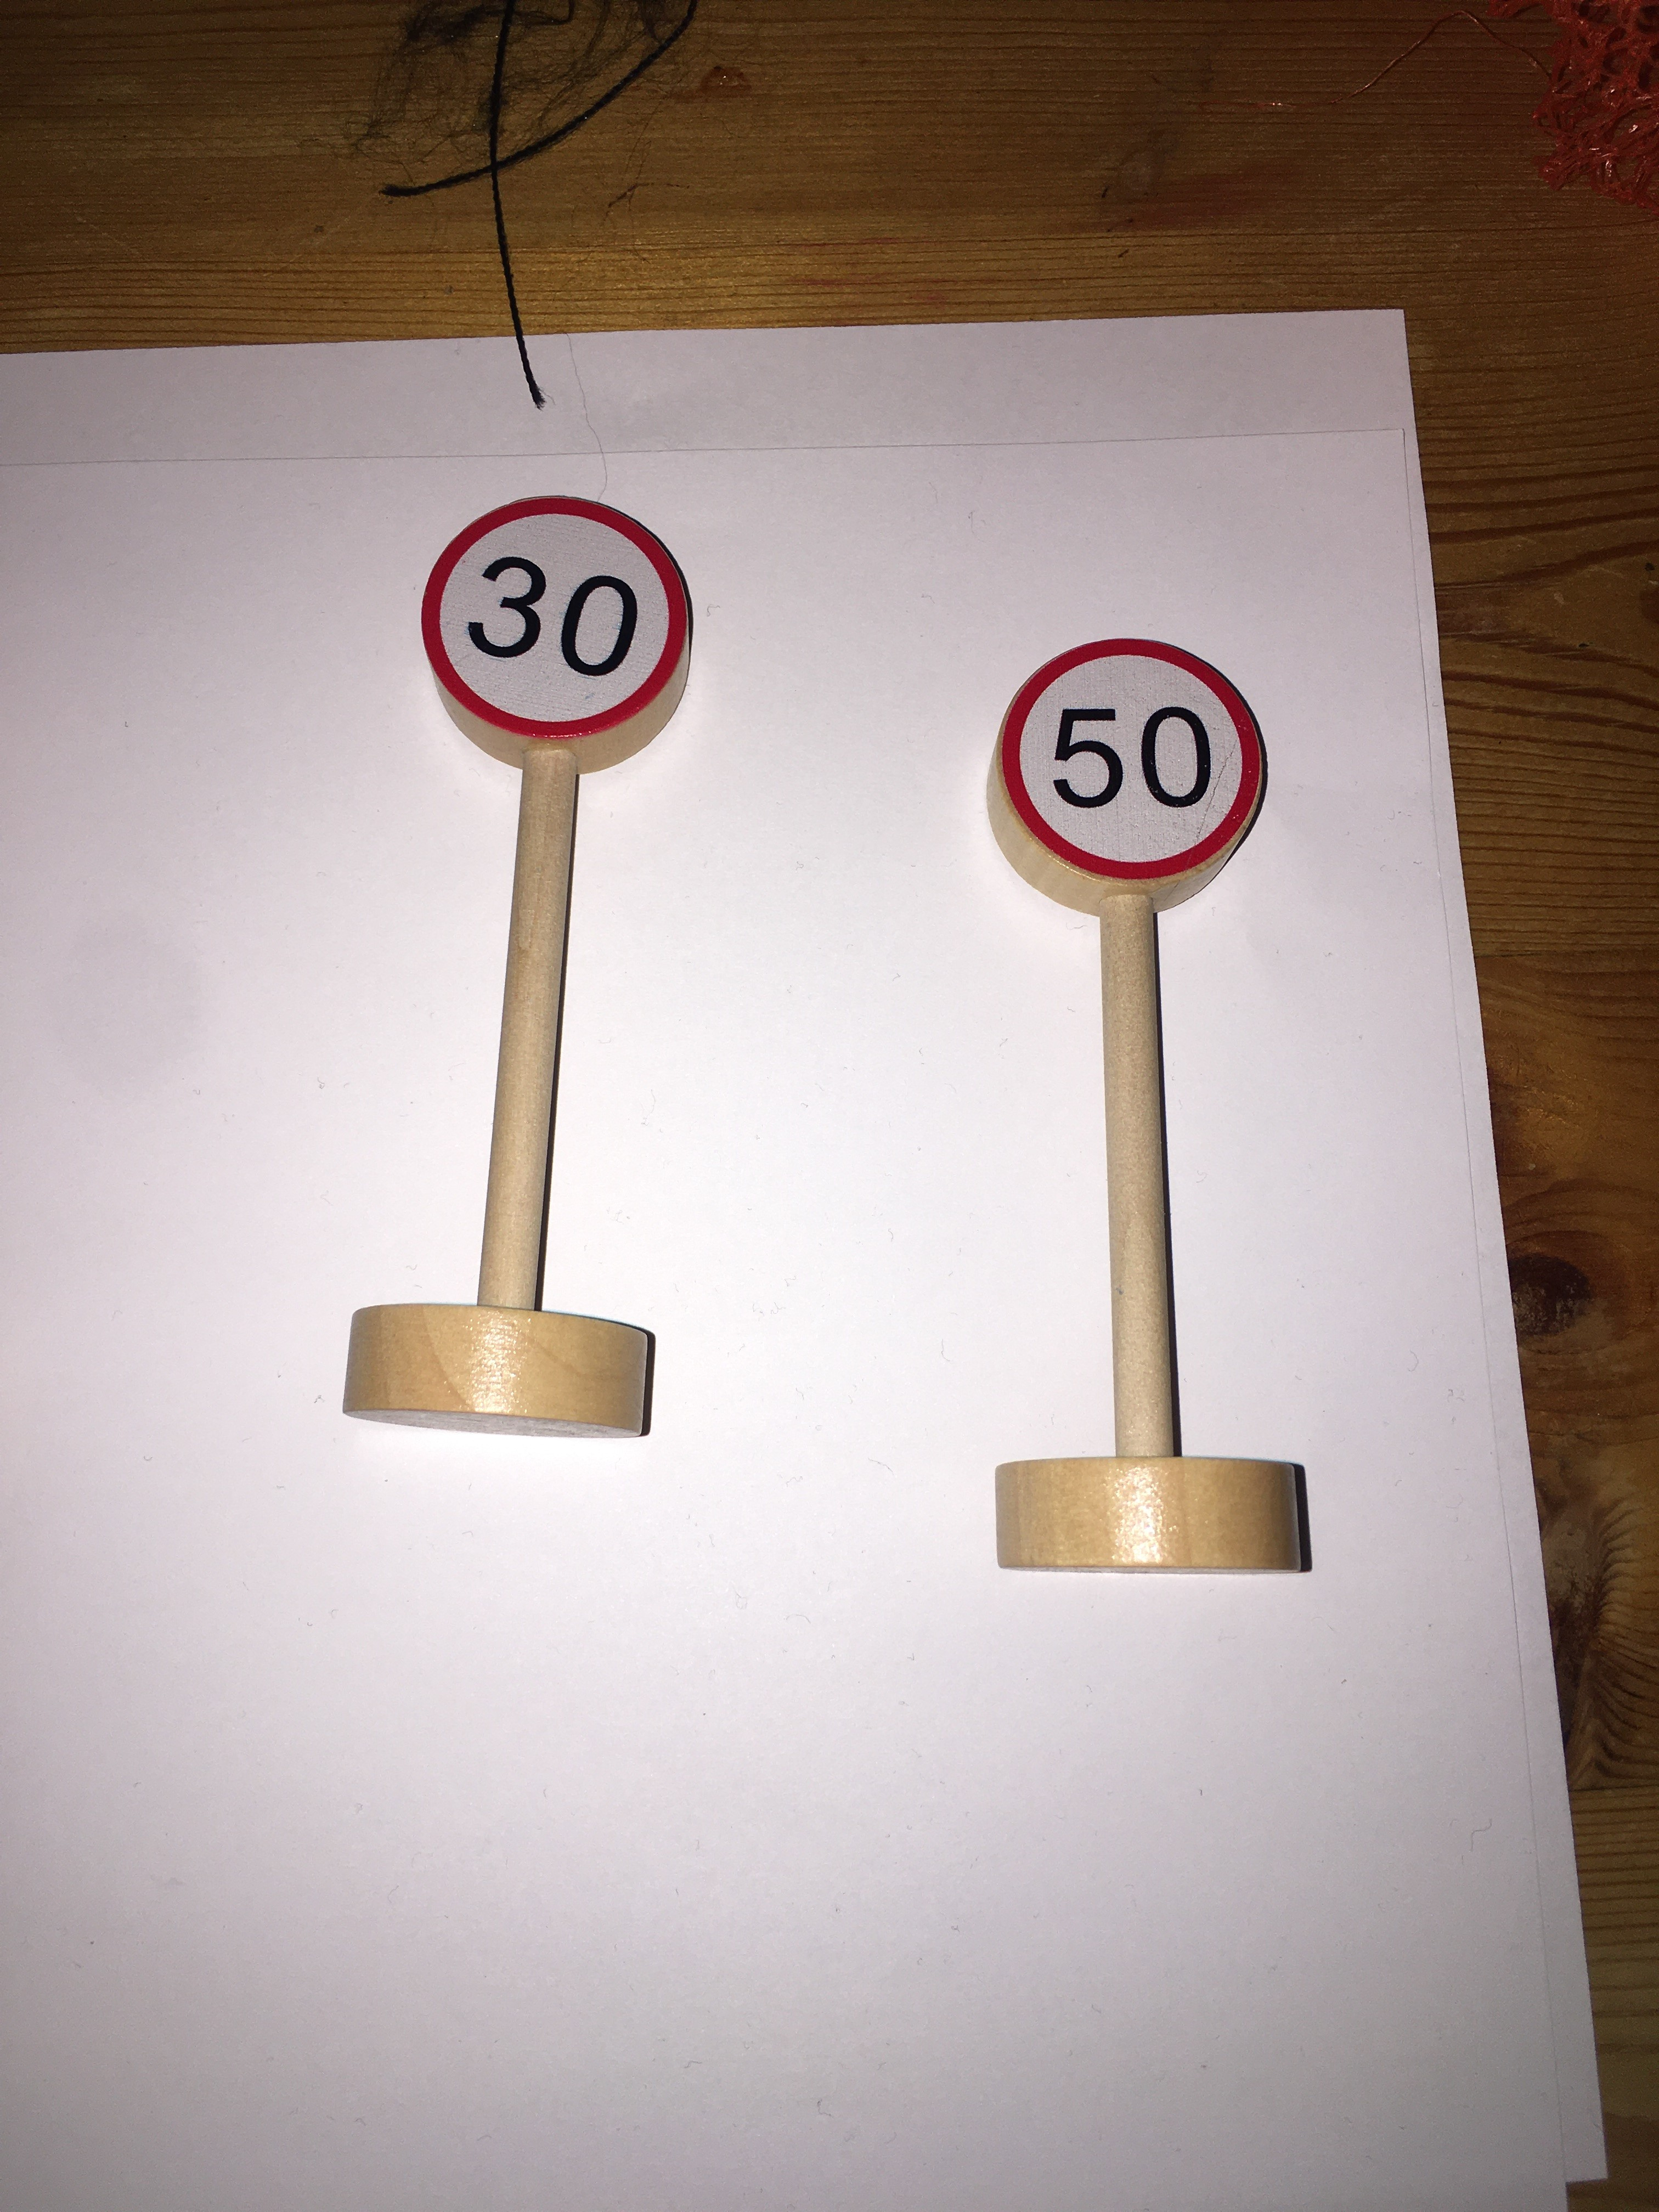Traffic_Sign_30: (425, 509, 687, 725)
Traffic_Sign_50: (1000, 651, 1260, 864)
